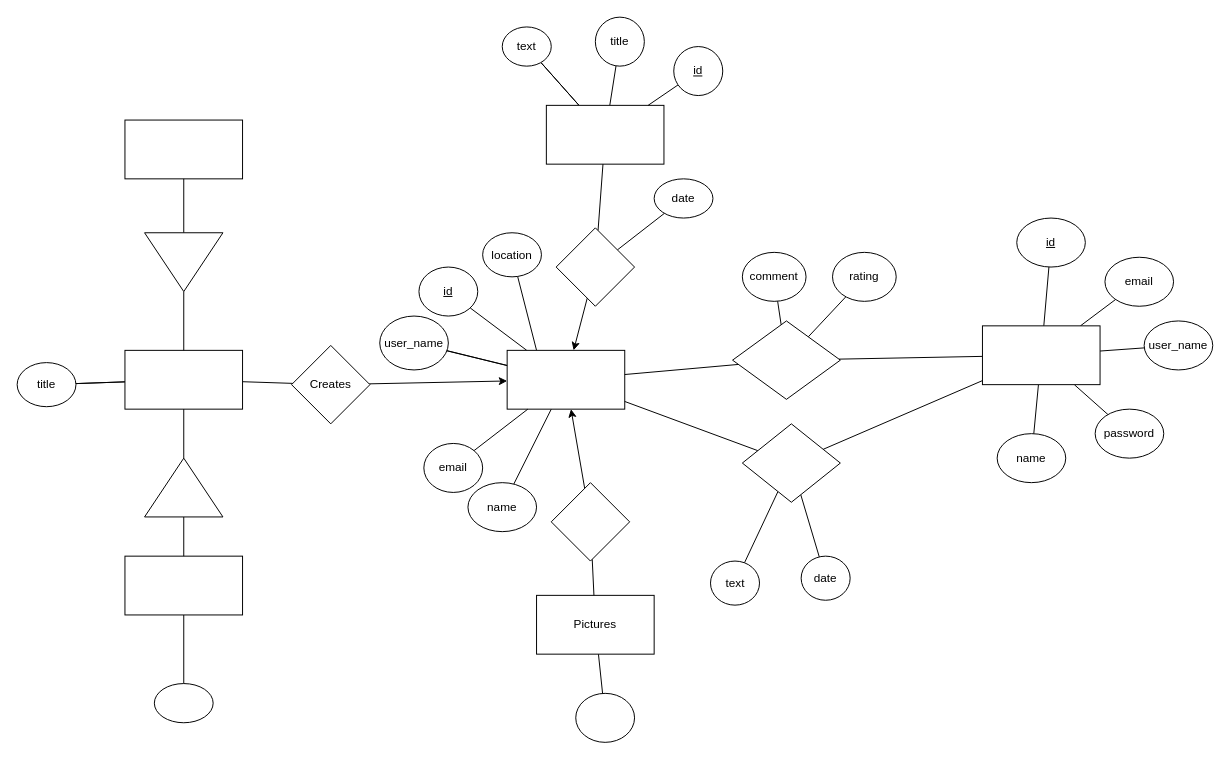
Image size: 1230x760. Some labels were removed from this diagram. Here are the shapes that lost their labels. From the top down, the centre of each, then its label:
pixel 183 149: Training_plans
pixel 604 134: Forum posts
pixel 595 266: post_forum
pixel 786 359: rates
pixel 1040 355: Customers
pixel 183 379: Plan
pixel 565 379: Trainers
pixel 790 462: messages
pixel 590 521: post_picture
pixel 183 585: Diet_plans
pixel 605 717: picture
